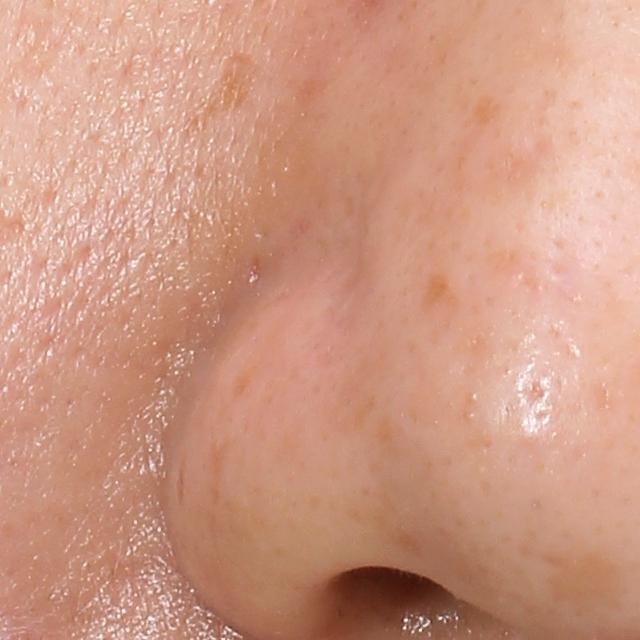melasma: (174, 55, 262, 143), (542, 550, 627, 608), (466, 79, 509, 136), (419, 275, 463, 318)
